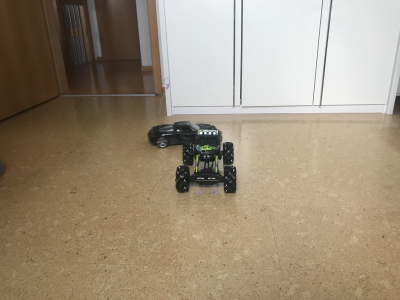remote control car: (172, 128, 239, 198)
